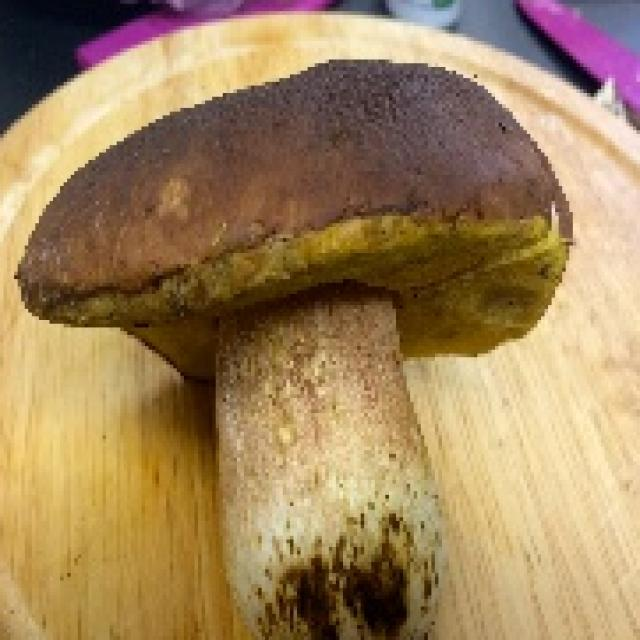mushroom: (14, 56, 584, 640)
